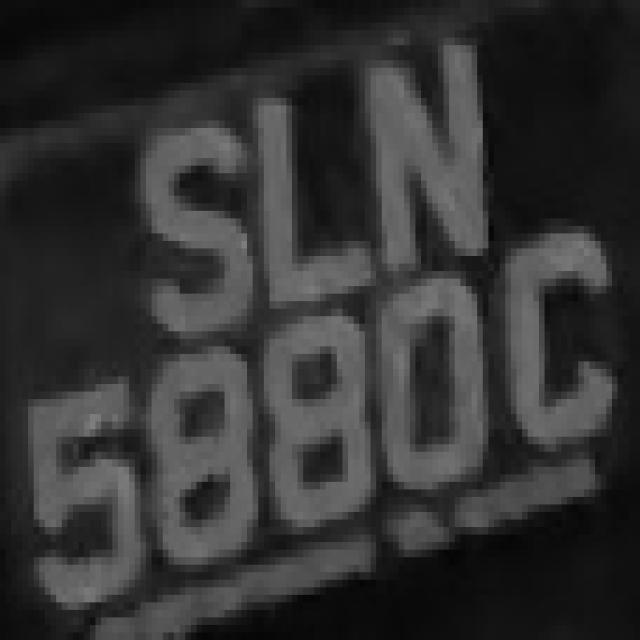0: (365, 264, 500, 512)
5: (11, 362, 140, 632)
8: (118, 324, 264, 587), (242, 286, 376, 542)
C: (488, 218, 612, 474)
L: (242, 60, 376, 324)
N: (359, 30, 500, 286)
S: (124, 90, 247, 354)
